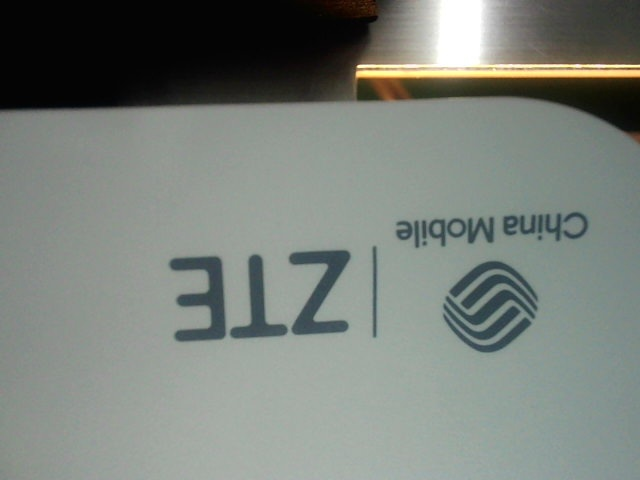AL_ZTEChinaMobile: (163, 201, 620, 355)
